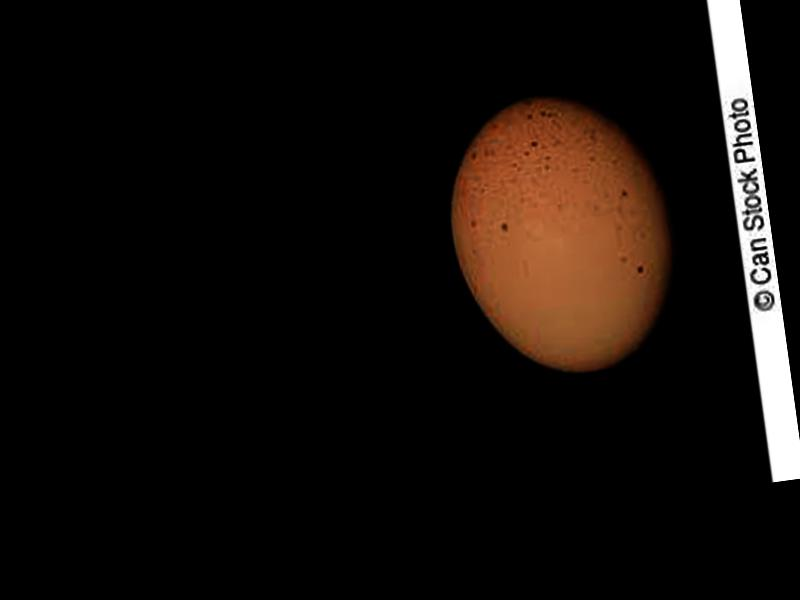Eggs: (436, 82, 693, 388)
